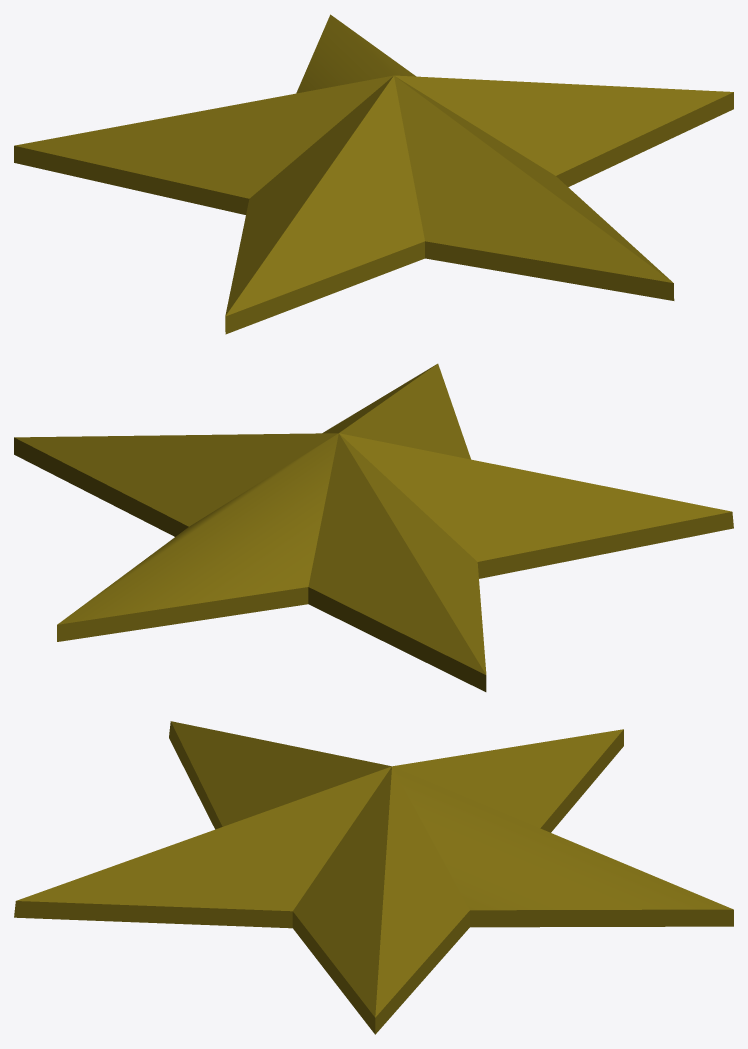
The model's file is star_gold_prototype.fbx.
3 views of the same model, one above another, from view 1: azimuth 30°, elevation 25°; view 2: azimuth 150°, elevation 25°; view 3: azimuth 270°, elevation 25° (orthographic).
Parts seen in each view (by area): view 1: Box011; view 2: Box011; view 3: Box011.
Boxes of the visible parts, bbox=[...] form: Box011: bbox=[14, 14, 733, 334]; Box011: bbox=[14, 363, 733, 691]; Box011: bbox=[14, 721, 733, 1034].
Bounding box in the file's own units: 8.82 × 1.49 × 9.04.
